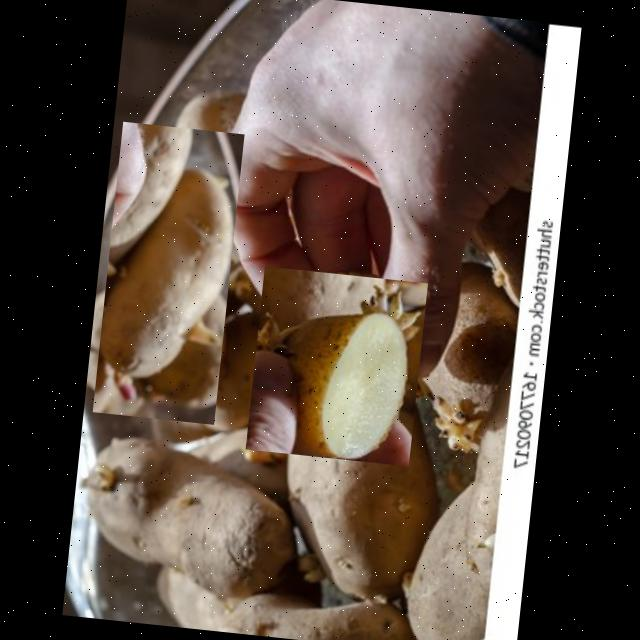Sprouted potato: (91, 122, 243, 424), (66, 424, 300, 604), (244, 266, 426, 466)
